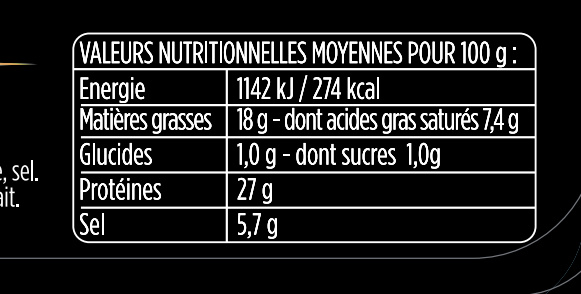column: (234, 70, 519, 239), (76, 70, 213, 241)
table: (71, 30, 539, 247)
